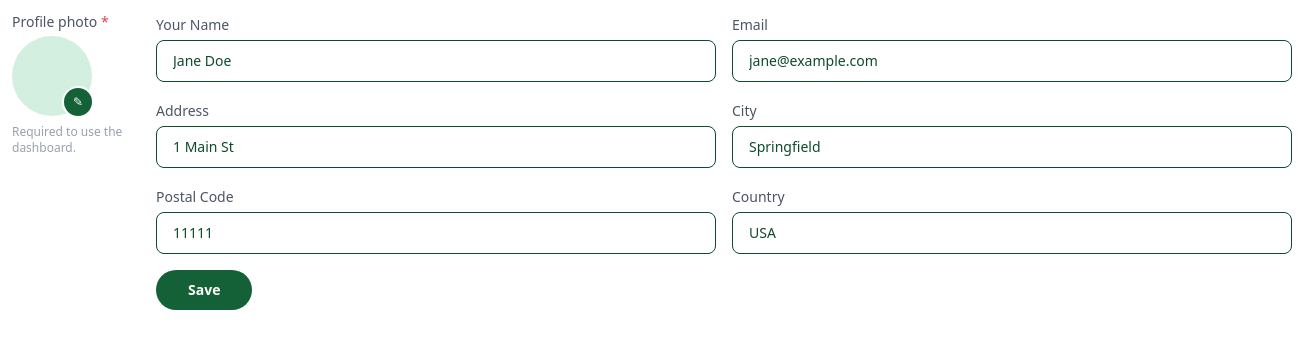
Test case: ProfileForm › names what is still missing instead of just claiming success
Click the button "Save".
click(204, 290)  # box [156, 270, 252, 310]
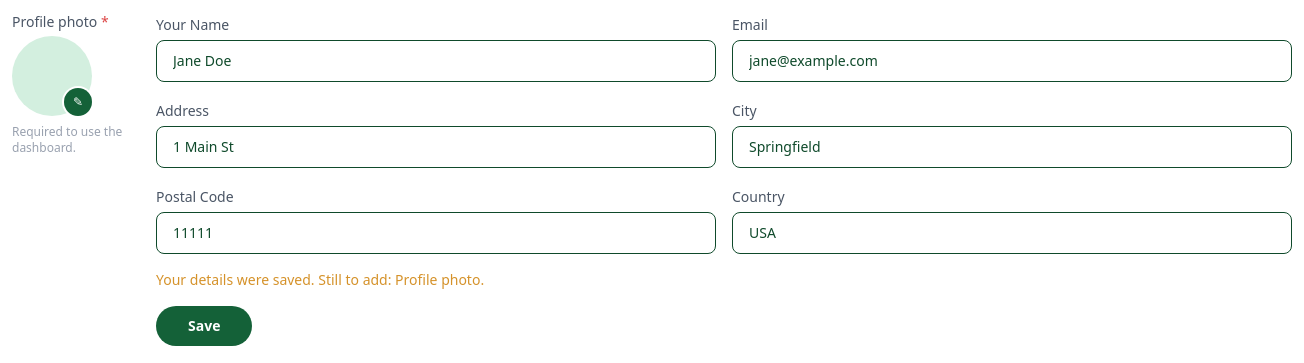
Expected: the text "Your details were saved. Still to add: Profile photo." is shown, [156, 270, 484, 289]
